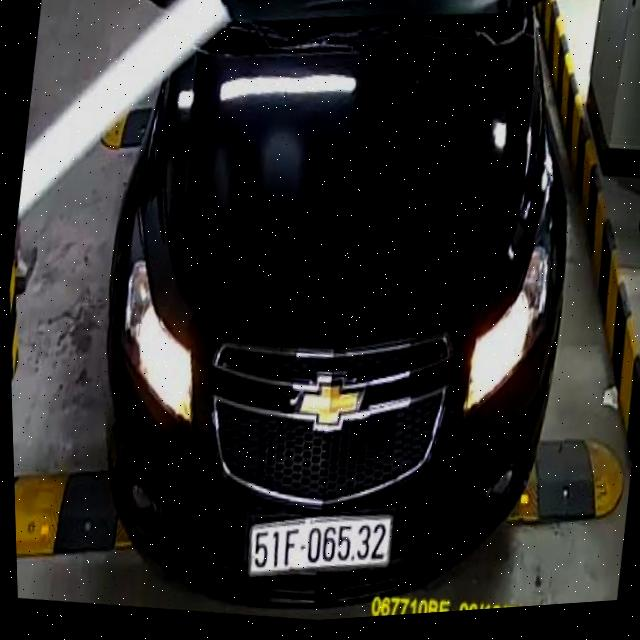car: (53, 0, 616, 636)
plate: (241, 496, 397, 596)
